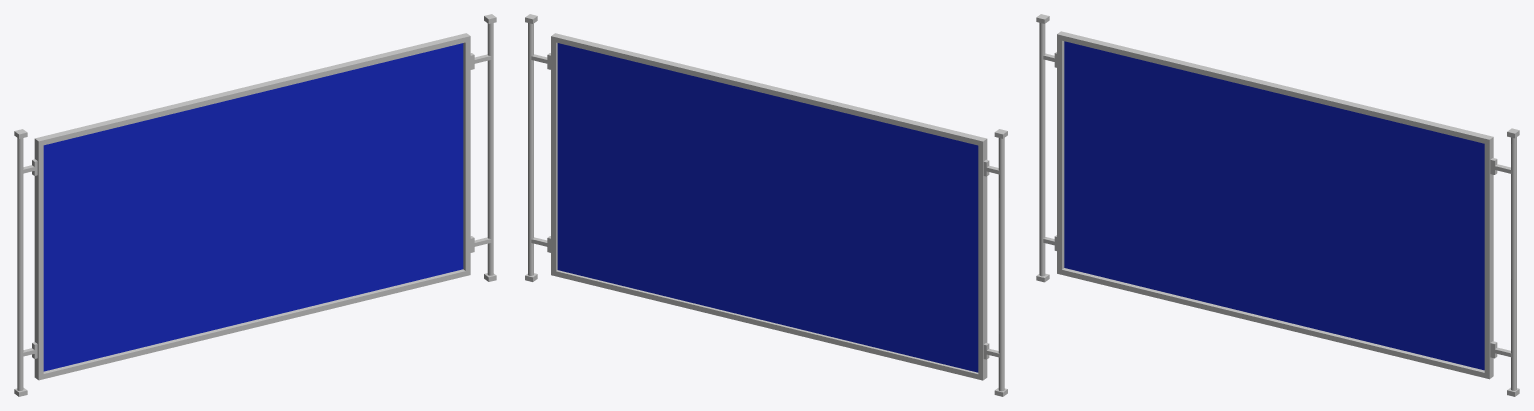
File: Fence.fbx
3 views of the same model, side by side, from view 1: azimuth 30°, elevation 25°; view 2: azimuth 150°, elevation 25°; view 3: azimuth 330°, elevation 25° (orthographic).
Visible parts, largest first — view 1: Fence; view 2: Fence; view 3: Fence.
Boxes of the visible parts, x1,y1,x2,y2 form: Fence: (14, 14, 496, 396); Fence: (525, 14, 1007, 396); Fence: (1036, 14, 1519, 396).
Size of the model in its own units: 3 by 1.58 by 0.0524.
